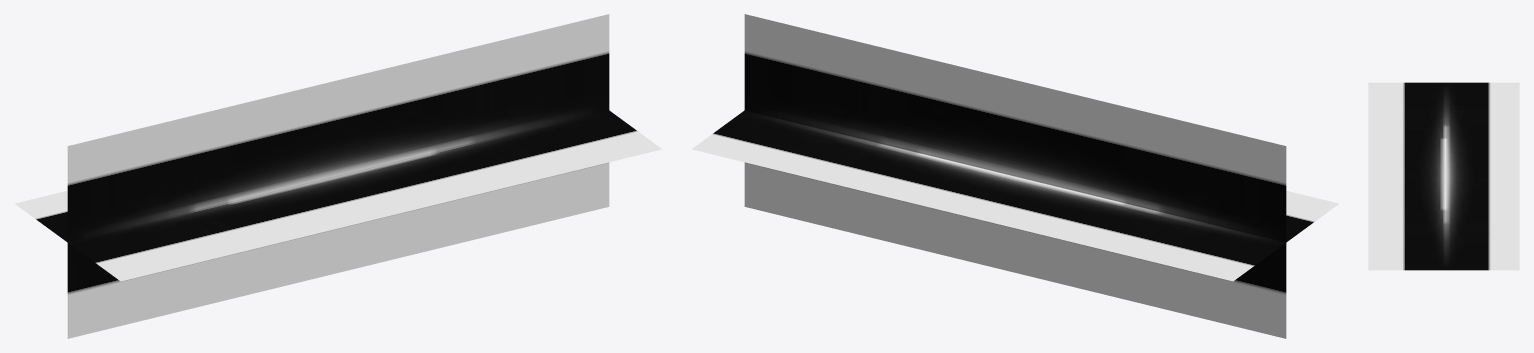
File: dibiao1_2.FBX
3 views of the same model, side by side, from view 1: azimuth 30°, elevation 25°; view 2: azimuth 150°, elevation 25°; view 3: azimuth 270°, elevation 25° (orthographic). The views are drawn at different scales.
Visible parts, largest first — view 1: Plane002; view 2: Plane002; view 3: Plane002.
Boxes of the visible parts, left/top/right/bottom form: Plane002: left=15, top=14, right=661, bottom=338; Plane002: left=692, top=14, right=1338, bottom=338; Plane002: left=1368, top=82, right=1519, bottom=270.
Size of the model in its own units: 6.42 by 2.18 by 2.18.
1 material, 1 textured.
